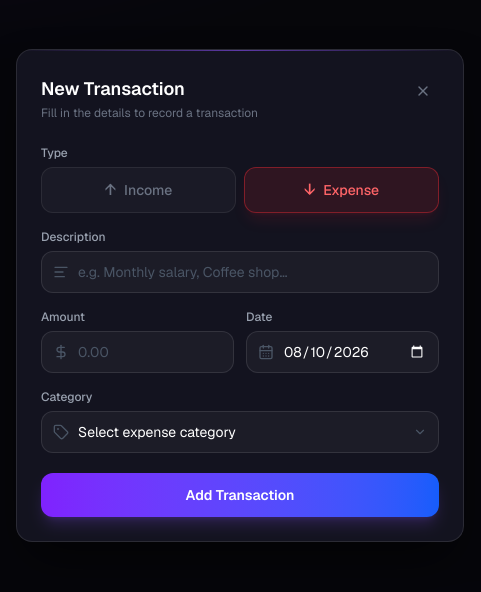
Test: TransactionForm › shows validation errors when submitting with empty description
Click the button "Add Transaction". click: (240,494)
box: [41,472,439,516]
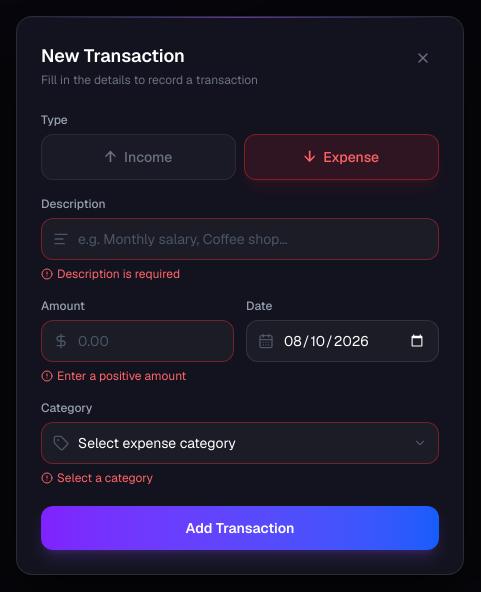
Check: the text "Description is required" is shown, box [41,266,180,282]
